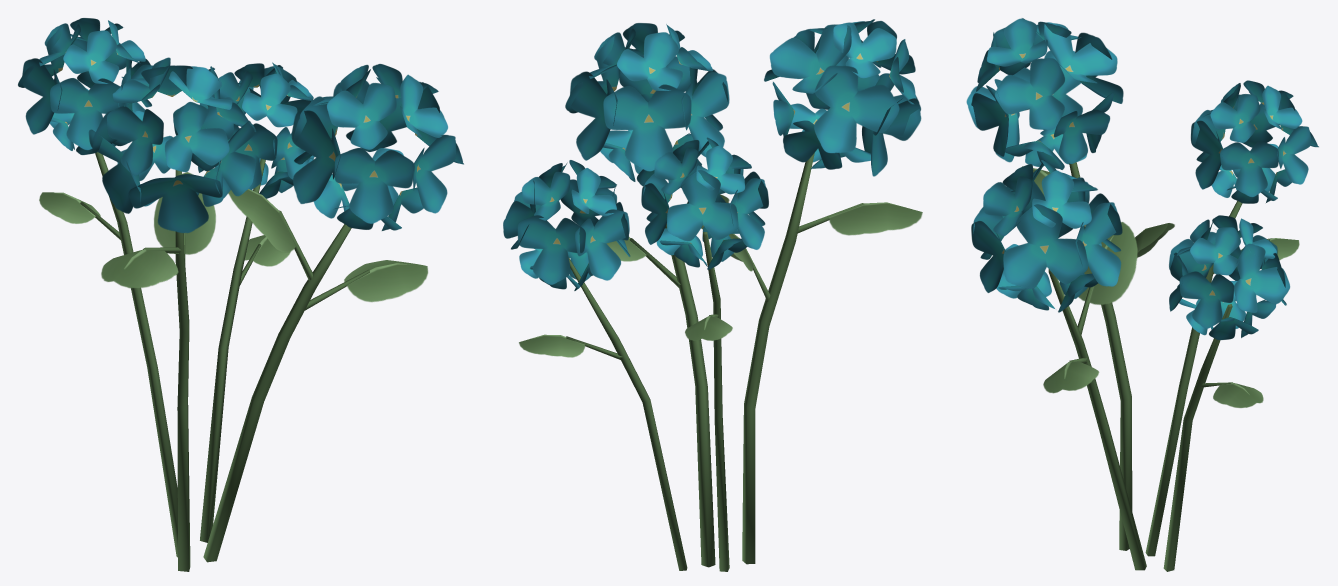
The model's file is flowers-1.glb.
The picture shows the model from 3 angles, left to right: view 1: azimuth 30°, elevation 25°; view 2: azimuth 150°, elevation 25°; view 3: azimuth 270°, elevation 25°; orthographic projection. The views are drawn at different scales.
Parts seen in each view (by area): view 1: Flower_1_Clump; view 2: Flower_1_Clump; view 3: Flower_1_Clump.
Boxes of the visible parts, <box> form: Flower_1_Clump: <box>18,18,463,571</box>; Flower_1_Clump: <box>503,19,922,571</box>; Flower_1_Clump: <box>966,18,1318,571</box>.
Size of the model in its own units: 0.4711 by 0.6713 by 0.4352.
1 material, 1 textured.
